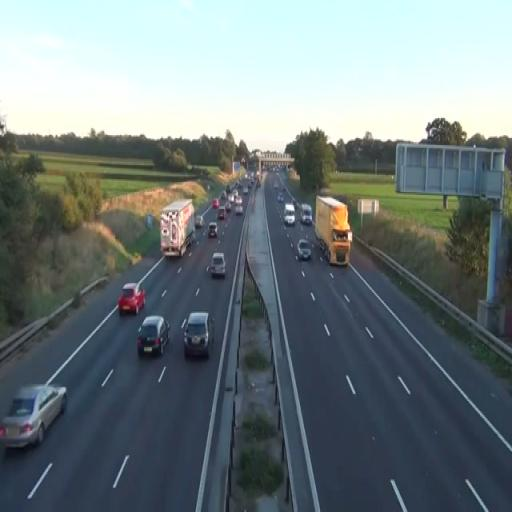Car: (0, 384, 67, 452), (181, 311, 214, 359), (136, 315, 171, 358), (118, 282, 146, 315), (210, 252, 226, 278), (296, 238, 313, 261), (284, 204, 295, 226), (208, 222, 218, 237)
Truck: (314, 195, 353, 267), (160, 199, 196, 259)
